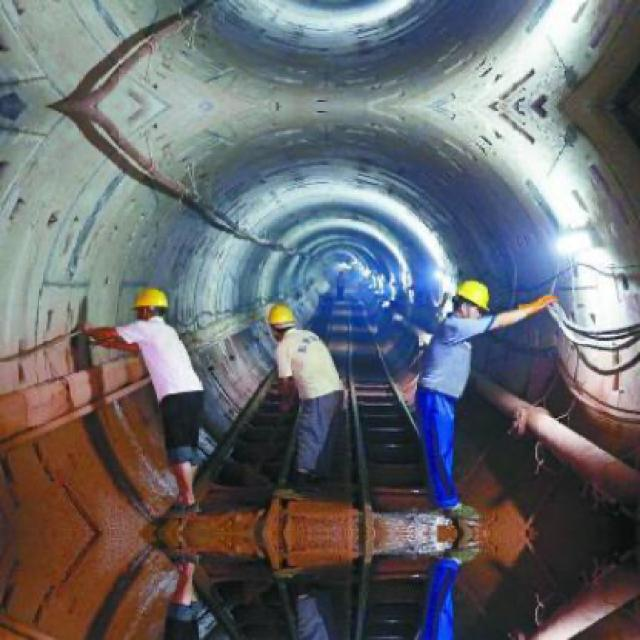con casco: (436, 265, 516, 346), (250, 296, 332, 351), (130, 276, 197, 336)
